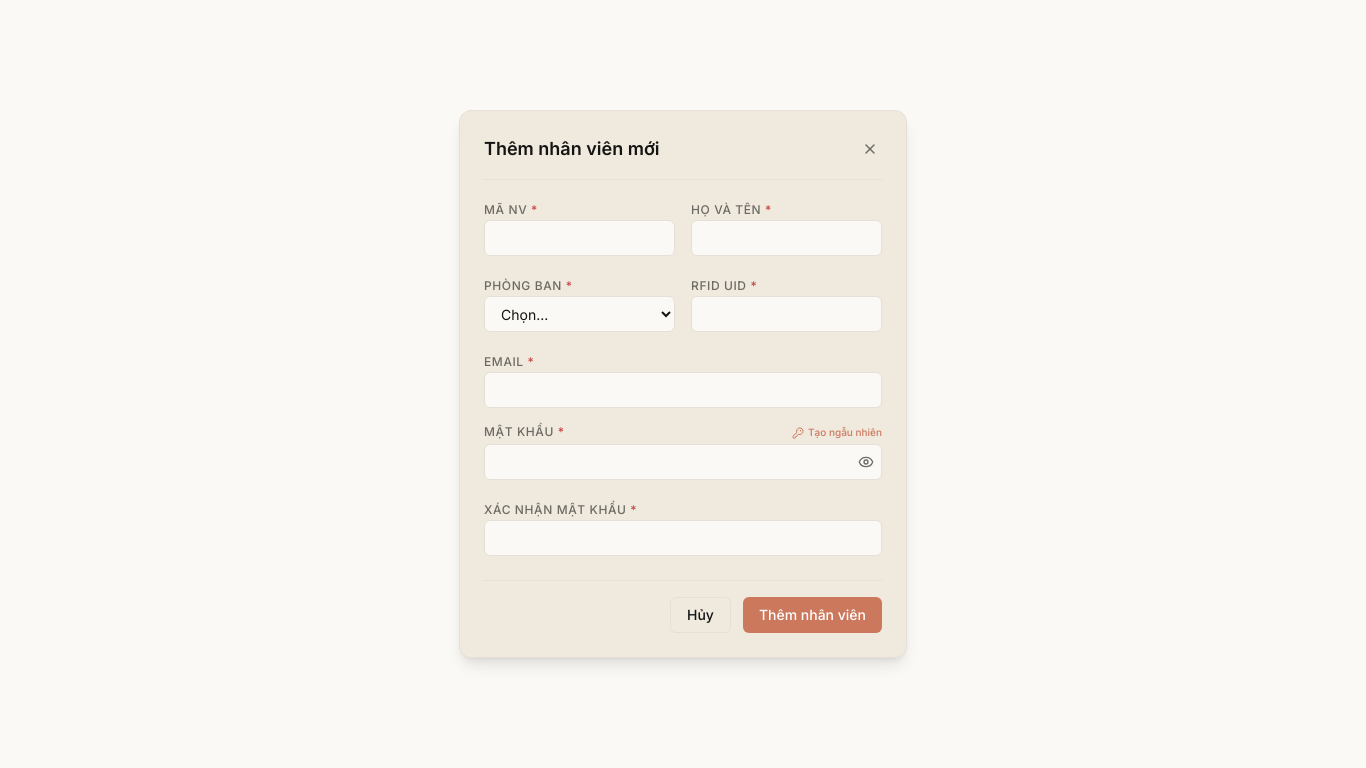
Test: AddEmployeeModal › validates password length and matching
This screenshot has width=1366, height=768.
Type "short" into the password field labelled "Mật khẩu *" at coordinates (683, 462), box [484, 444, 882, 480]
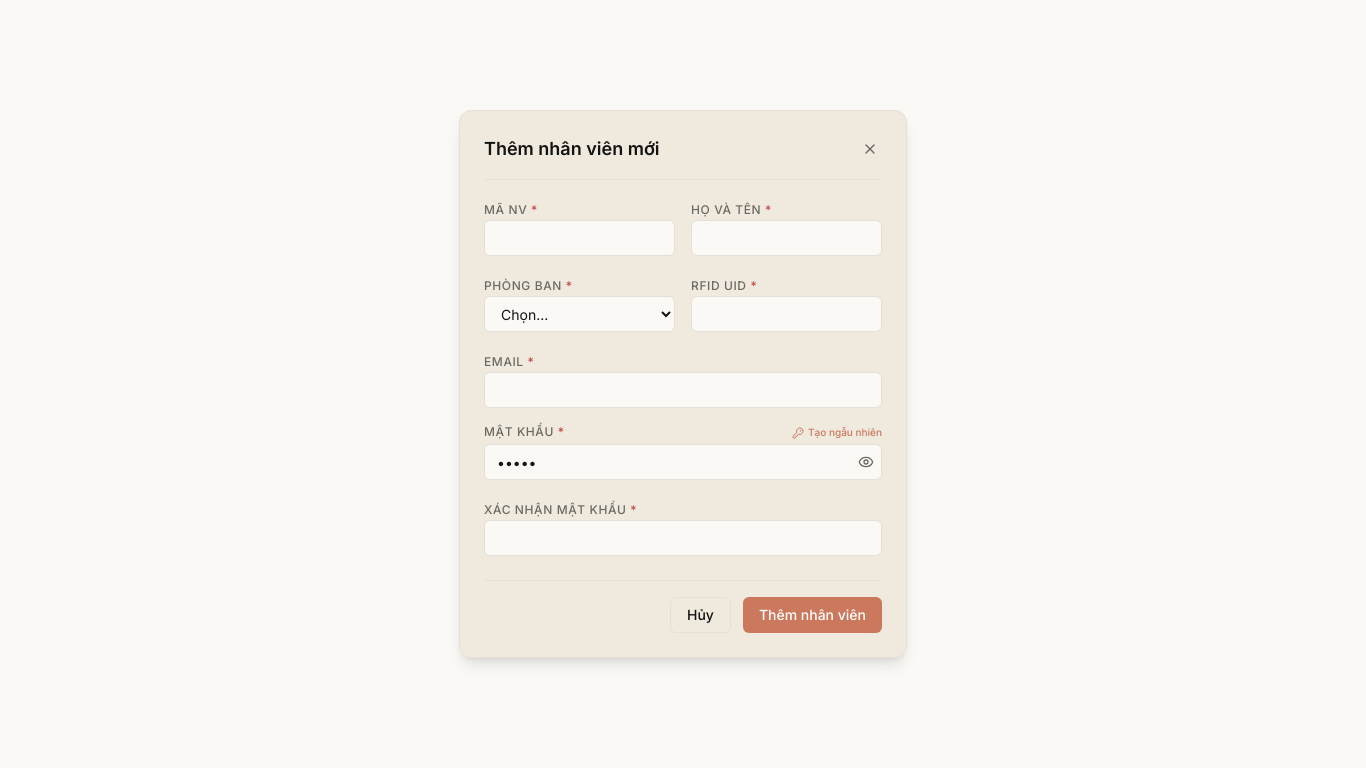
Type "short2" into the password field labelled "Xác nhận mật khẩu *" at coordinates (683, 538), box [484, 520, 882, 556]
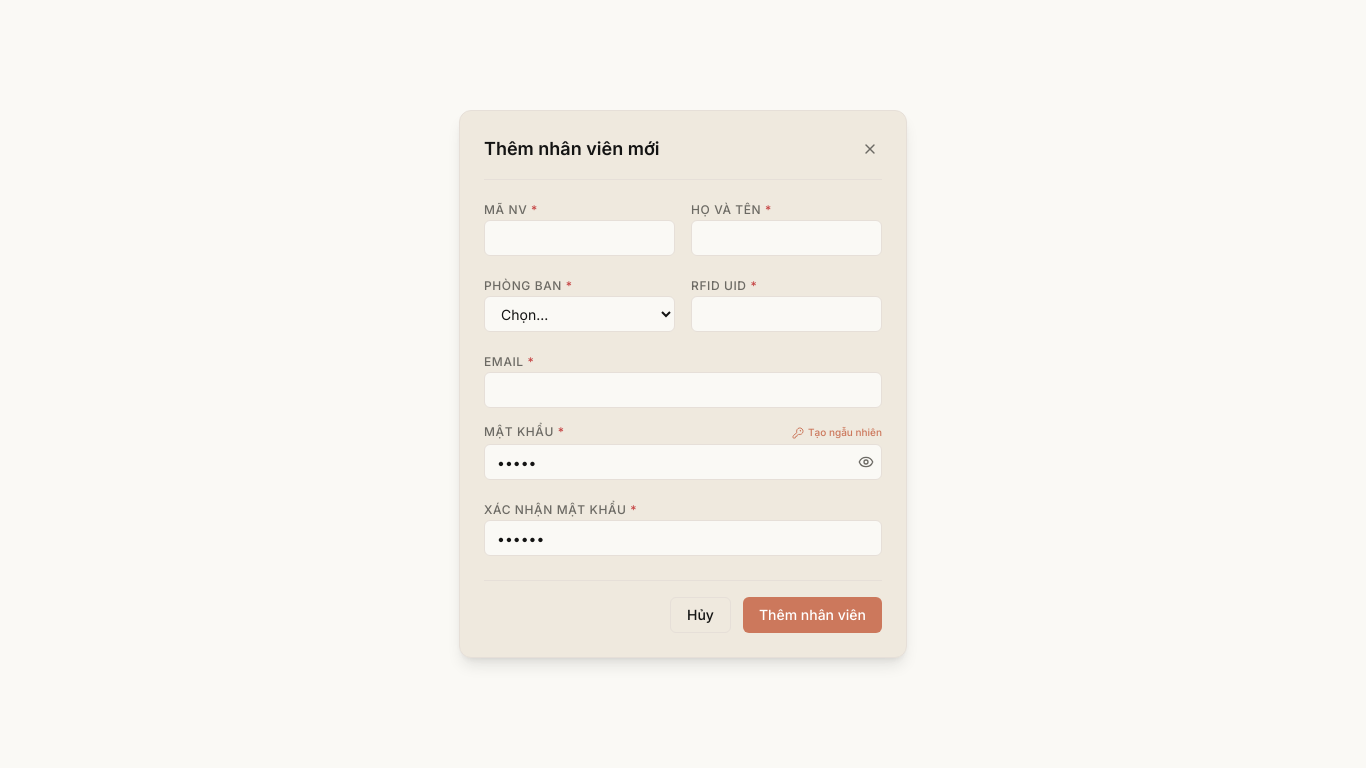
Click the button "Thêm nhân viên" at coordinates (812, 615), box [743, 597, 882, 633]
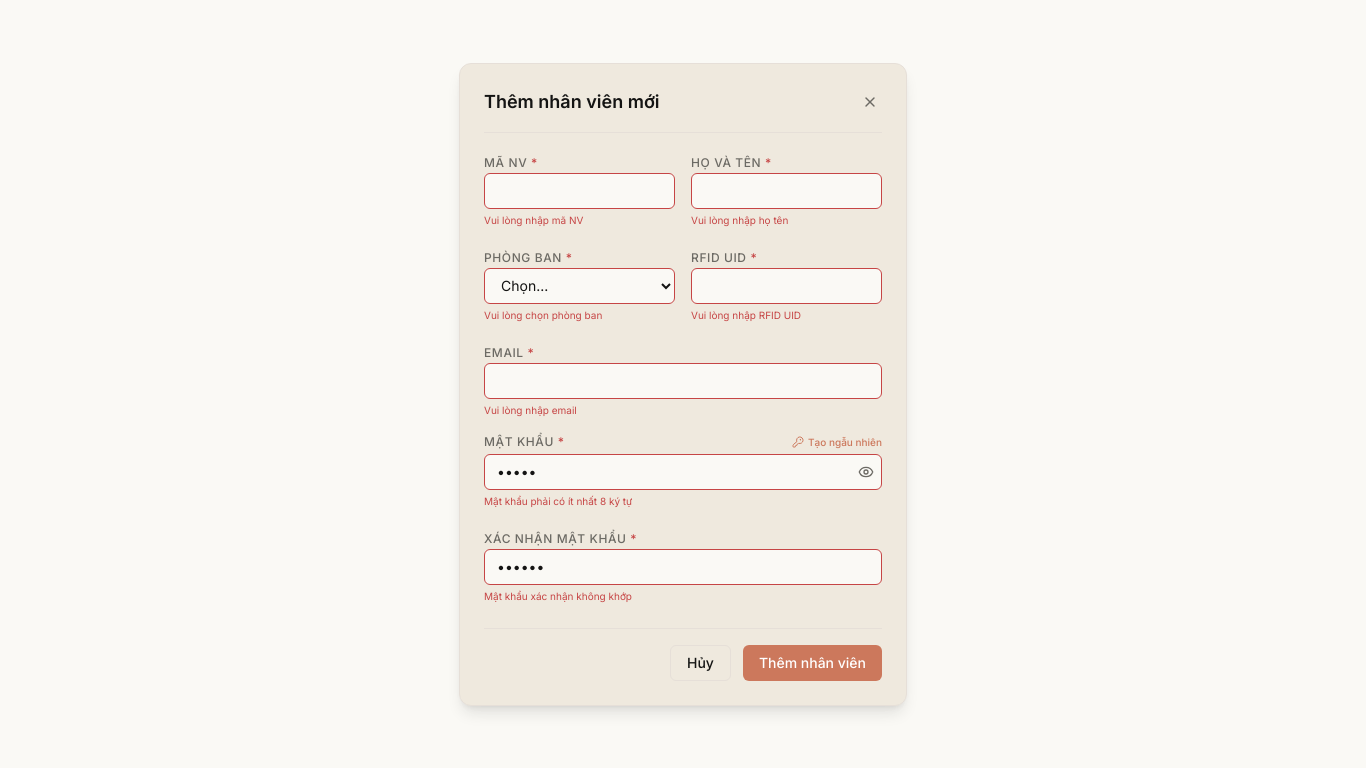
Check: the text "Mật khẩu phải có ít nhất 8 ký tự" is shown, box [484, 494, 632, 506]
Check: the text "Mật khẩu xác nhận không khớp" is shown, box [484, 590, 632, 602]
